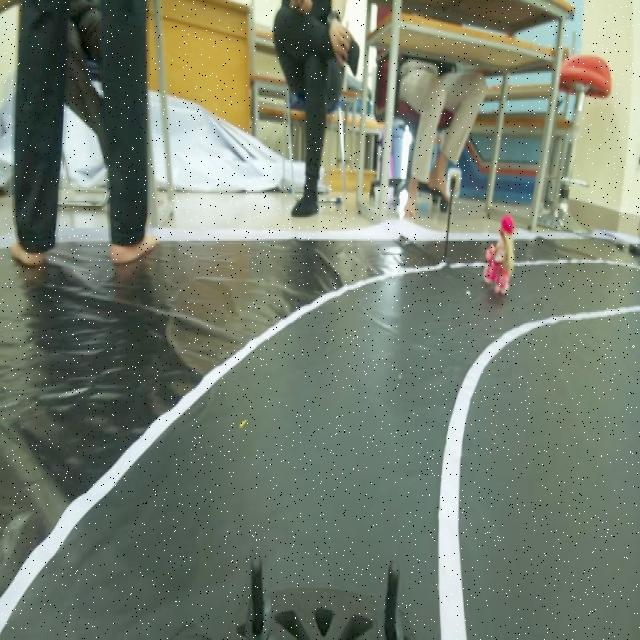pedestrian: (486, 205, 516, 308)
